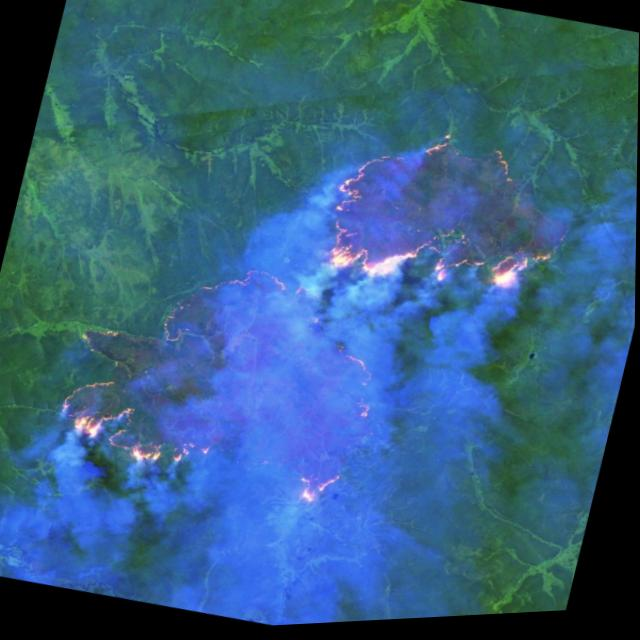fire: (298, 102, 582, 332), (43, 362, 235, 489), (285, 455, 351, 514)
